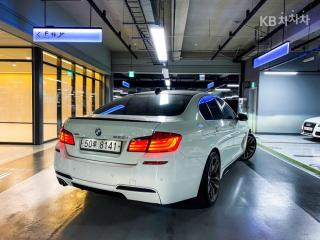0: (88, 140, 93, 148)
1: (104, 141, 108, 150), (113, 142, 117, 151)
4: (108, 142, 113, 150)
5: (84, 139, 88, 148)
8: (99, 141, 104, 149)
루: (93, 140, 97, 148)
